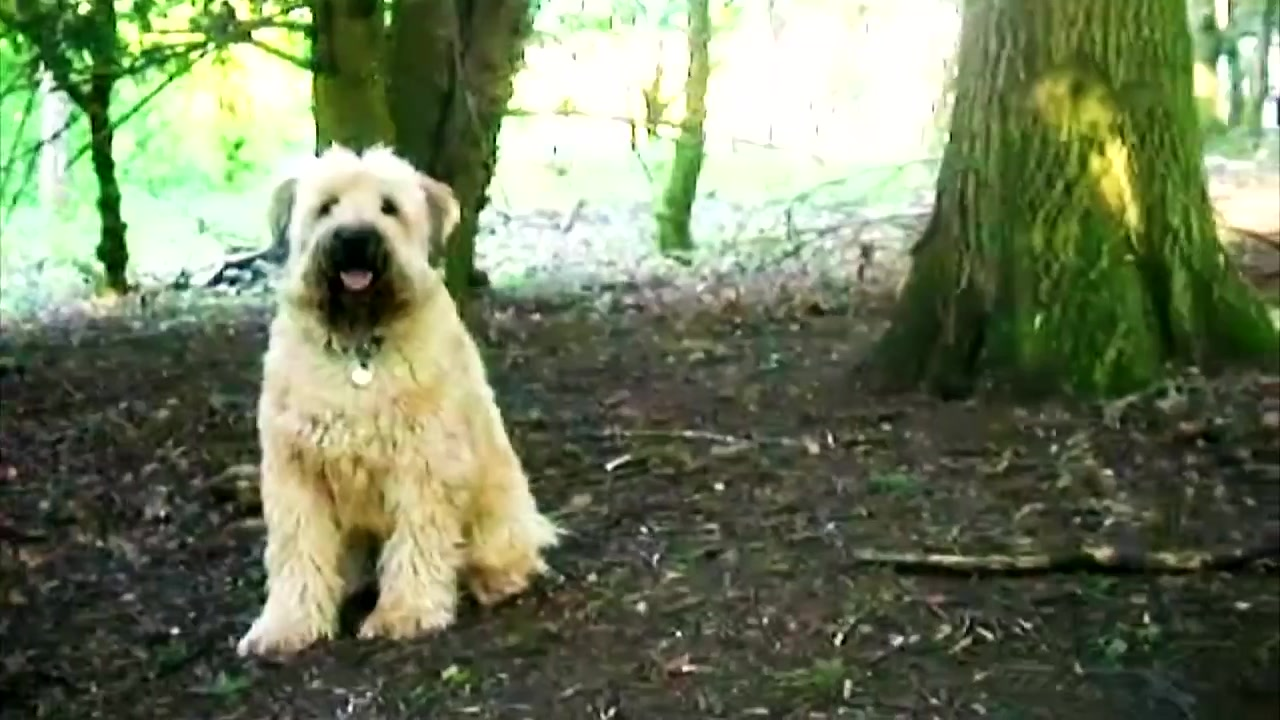dog: (236, 148, 560, 663)
